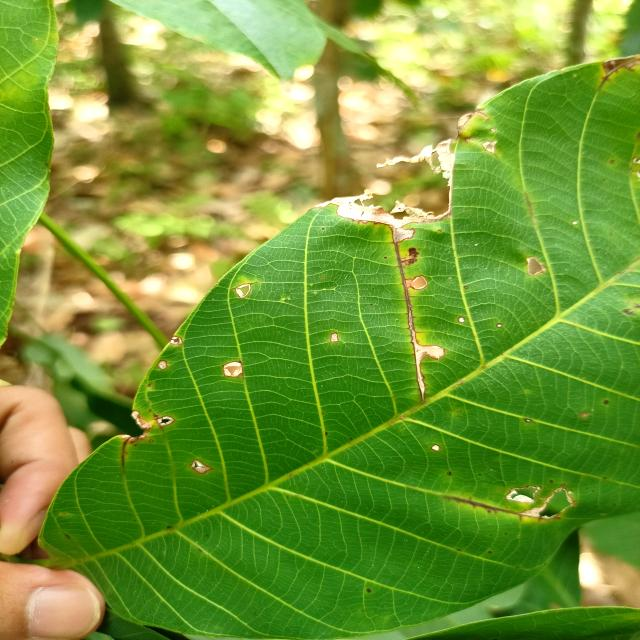Colletotrichum: (430, 444, 440, 452), (457, 316, 465, 323), (524, 418, 532, 423), (496, 323, 502, 328), (603, 400, 609, 404), (366, 588, 371, 592), (610, 160, 615, 164), (488, 550, 492, 554), (447, 472, 451, 476), (549, 480, 553, 483), (464, 286, 468, 289), (149, 440, 154, 442), (384, 257, 387, 259), (322, 228, 325, 230)
Corynespora: (392, 242, 446, 399), (442, 495, 525, 521), (120, 437, 131, 468)
Leaf-Blight: (309, 189, 450, 241), (375, 139, 454, 185), (602, 54, 640, 76), (521, 502, 547, 517), (221, 361, 243, 377), (191, 459, 211, 474), (236, 284, 250, 297), (512, 494, 534, 502), (158, 360, 168, 370), (330, 333, 338, 342)
